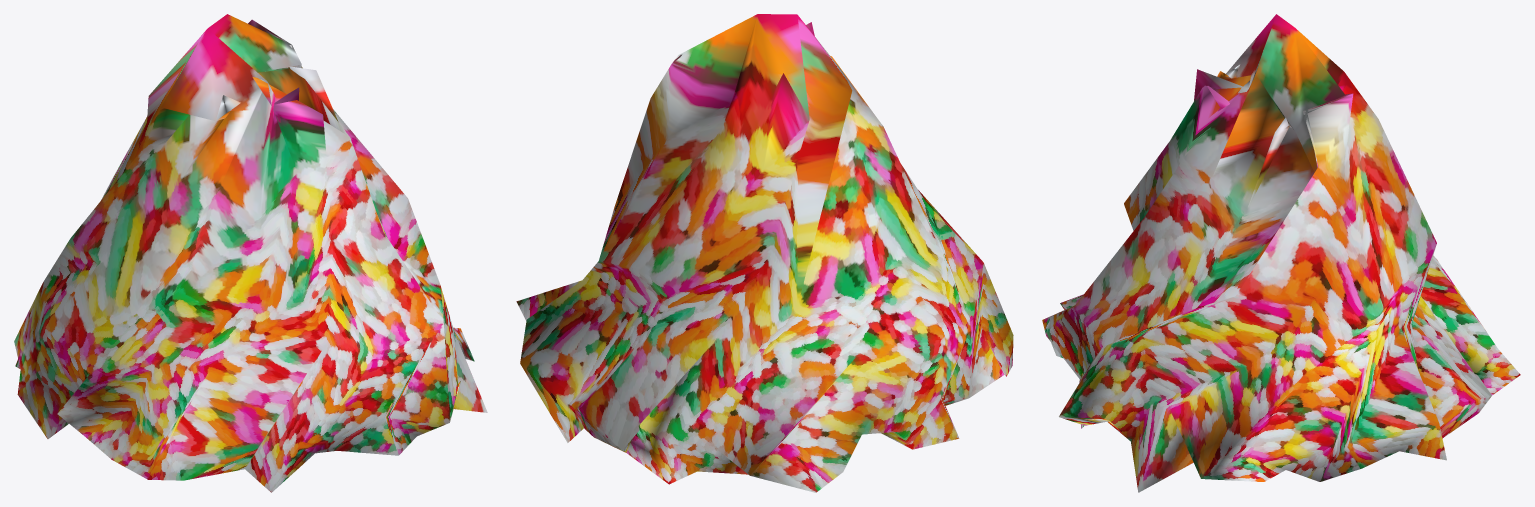
File: Sprinkles Topping.obj
The picture shows the model from 3 angles, left to right: view 1: azimuth 30°, elevation 25°; view 2: azimuth 150°, elevation 25°; view 3: azimuth 270°, elevation 25°; orthographic projection. The views are drawn at different scales.
Visible parts, largest first — view 1: Sprinkles; view 2: Sprinkles; view 3: Sprinkles.
Part boxes in pixels (x1,y1,x2,y2): Sprinkles: [14, 14, 487, 492]; Sprinkles: [516, 14, 1013, 492]; Sprinkles: [1042, 14, 1520, 492].
Size of the model in its own units: 0.0925 by 0.0838 by 0.0953.
